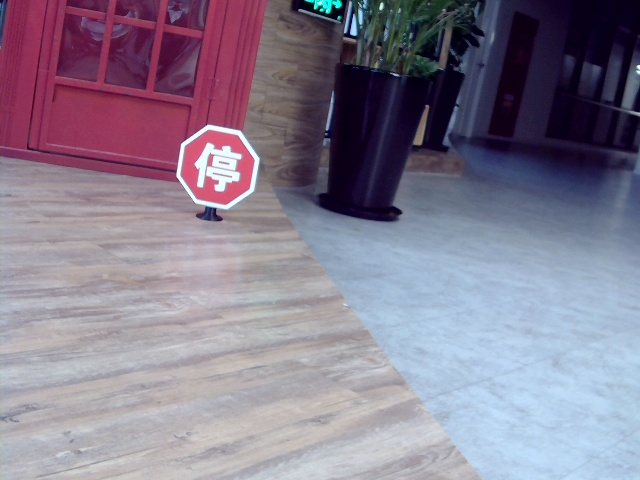stop: (194, 137, 241, 192)
